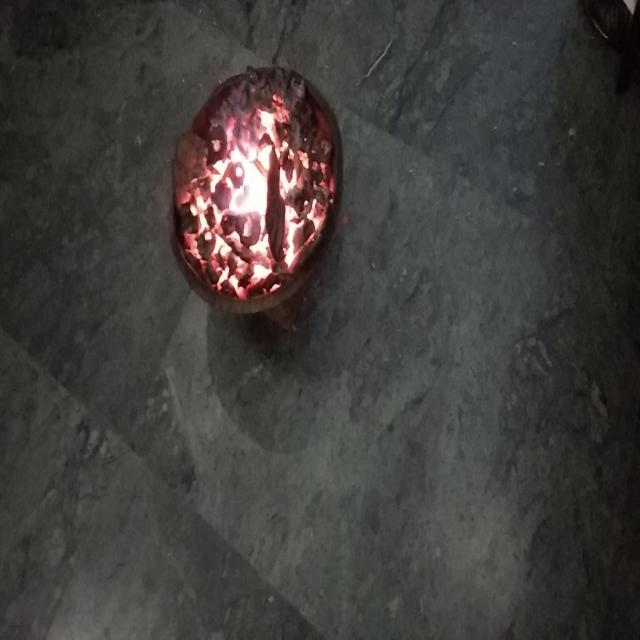Fire: (176, 86, 336, 334)
